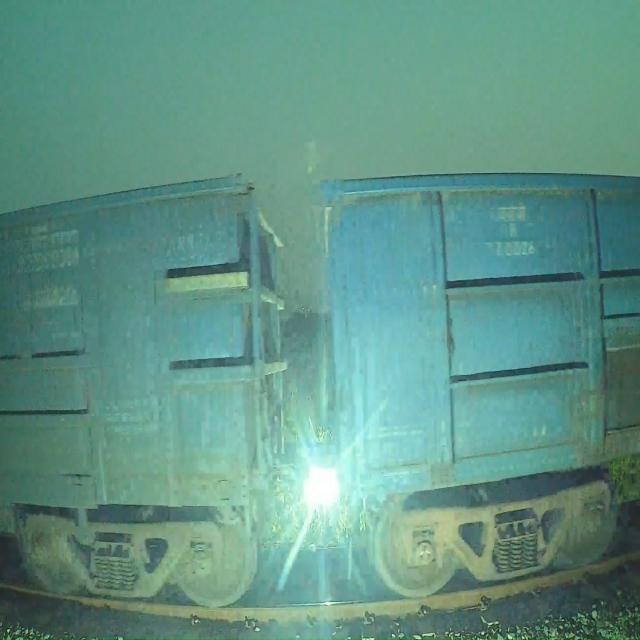WAgon-uic: (317, 171, 640, 598), (0, 175, 288, 604)
uic: (6, 243, 82, 319)
